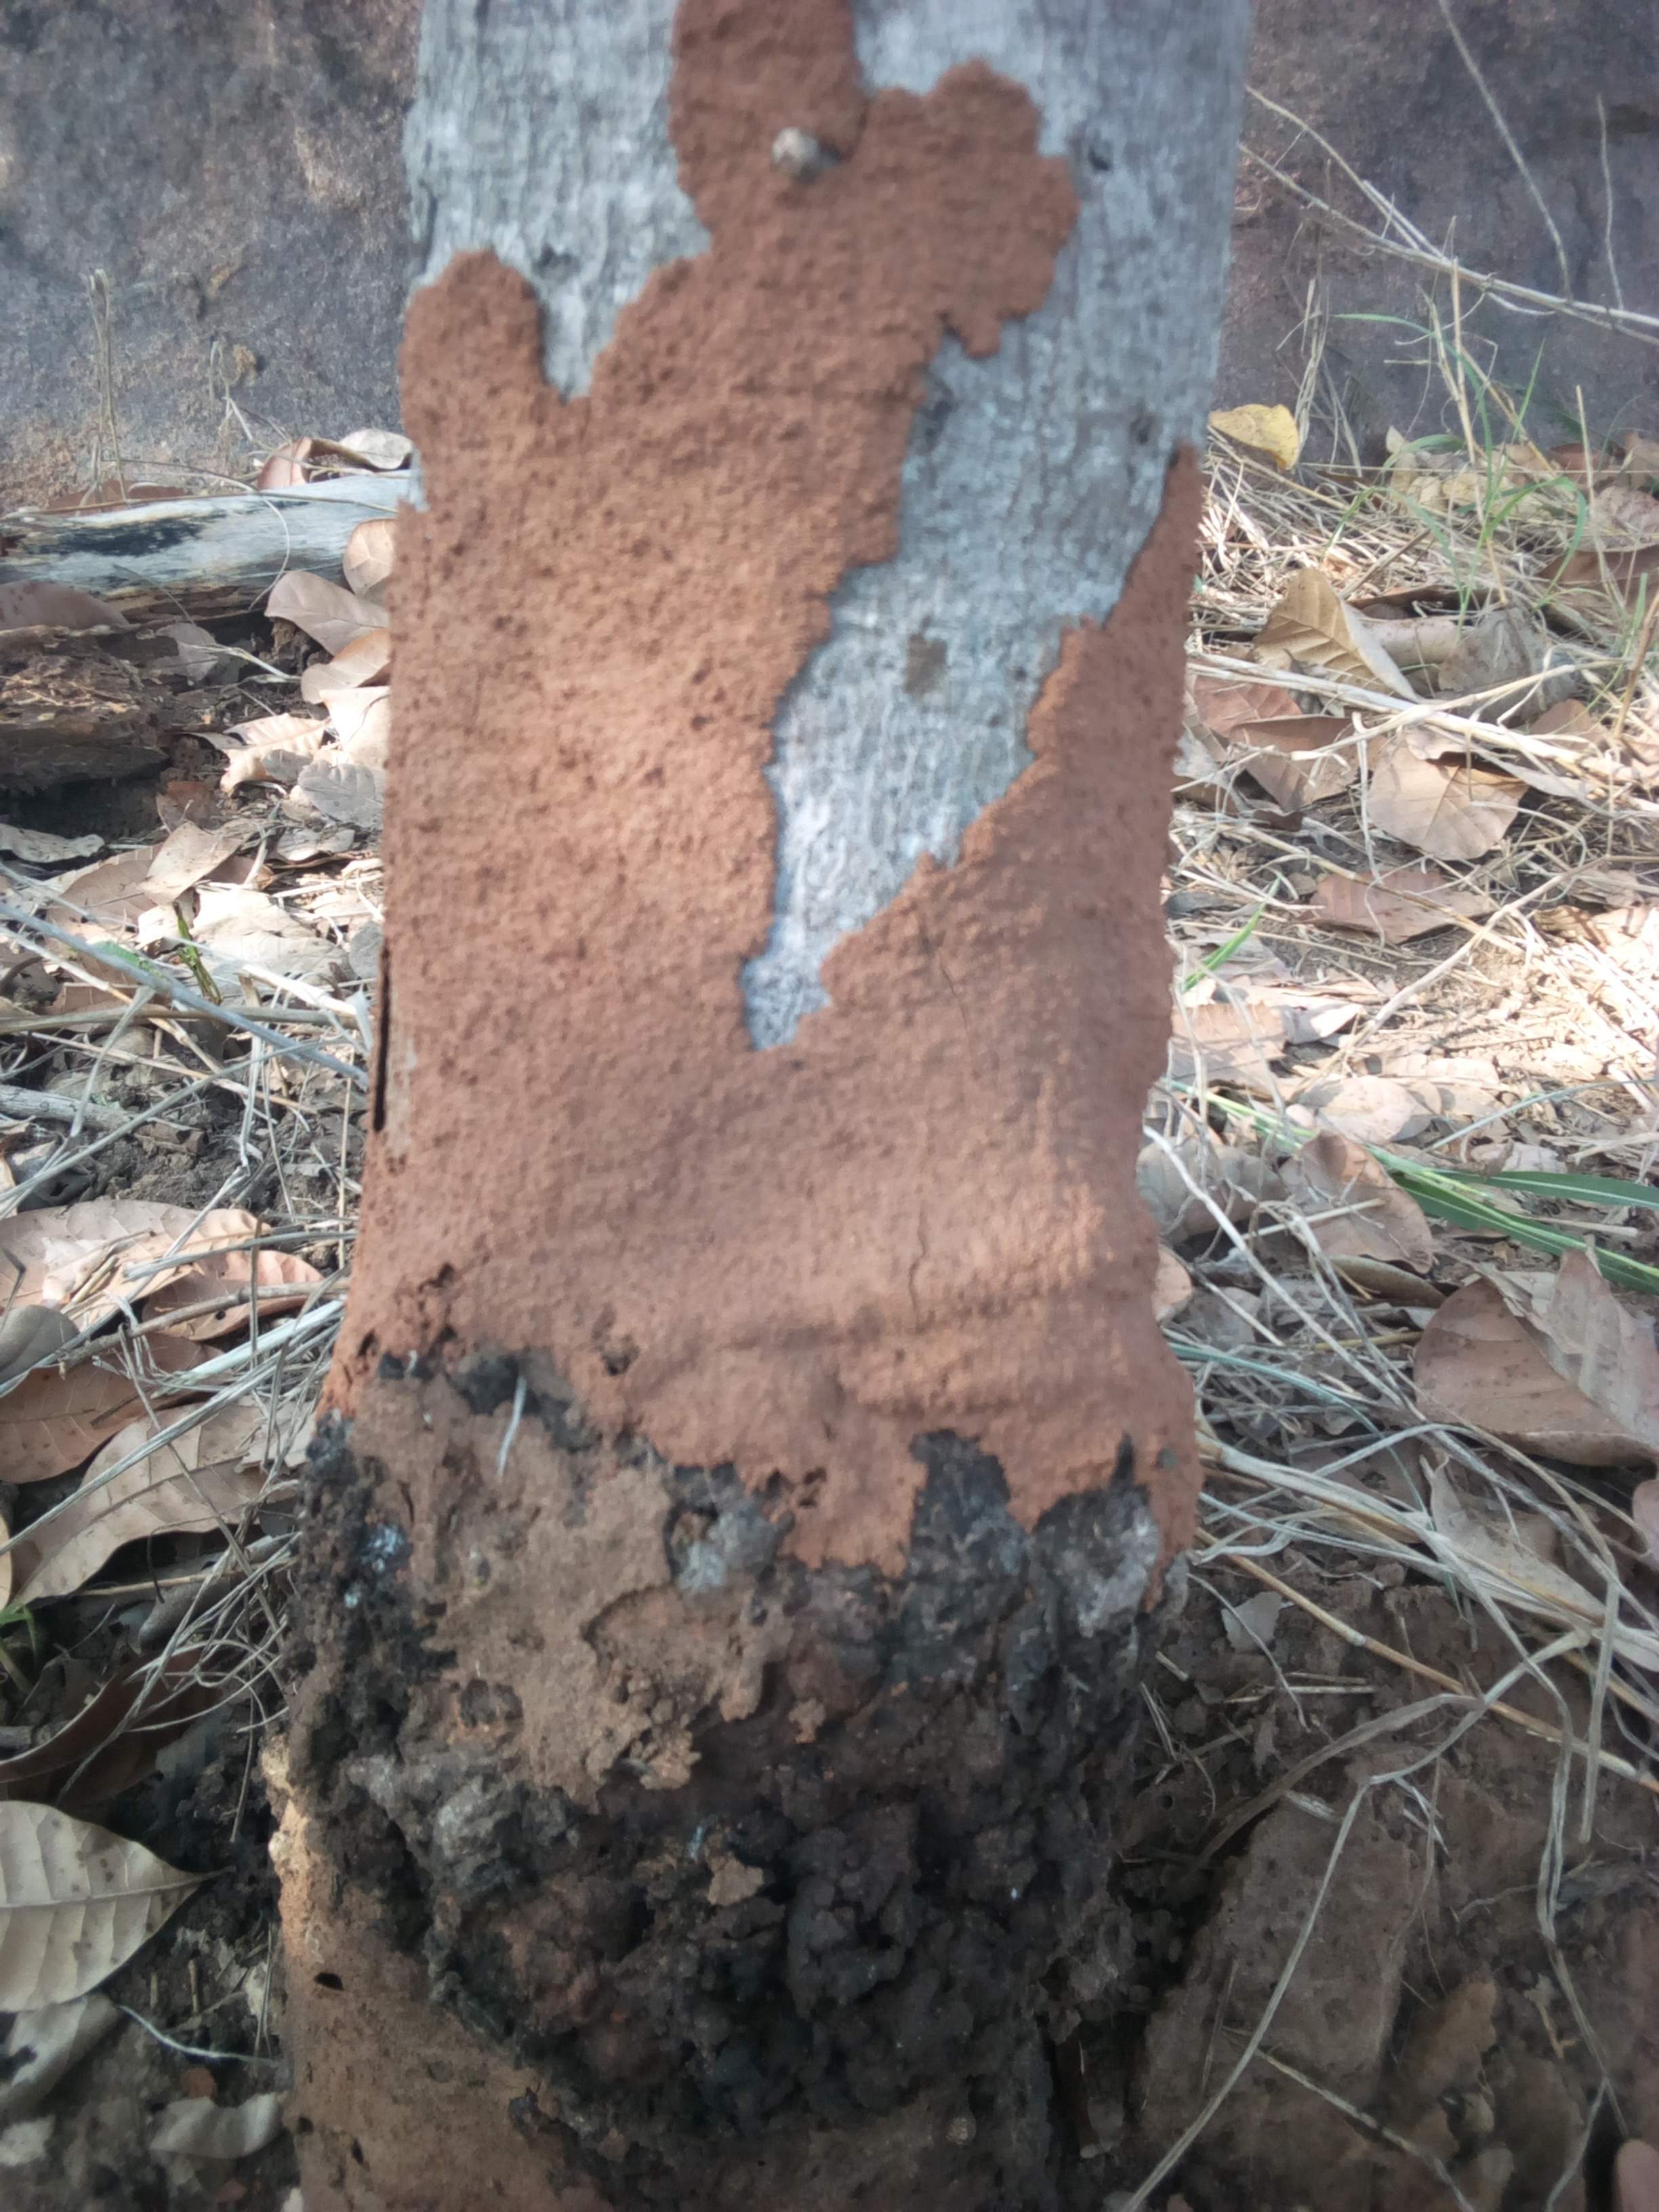Termites: (413, 0, 1199, 1587), (328, 1662, 1155, 2212)
